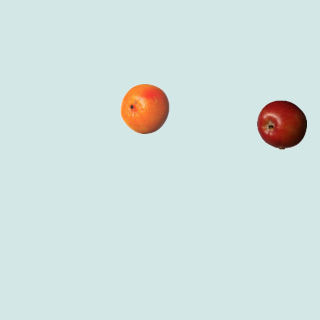Apple Braeburn: (256, 99, 306, 149)
Grapefruit Pink: (119, 83, 169, 133)
